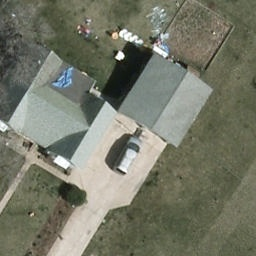car: (113, 137, 142, 178)
